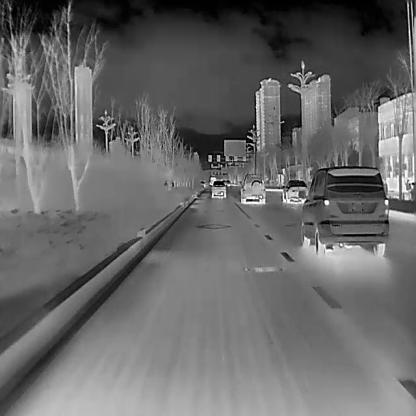car: (297, 164, 389, 256), (239, 173, 264, 203), (282, 180, 308, 202), (211, 180, 226, 198)
